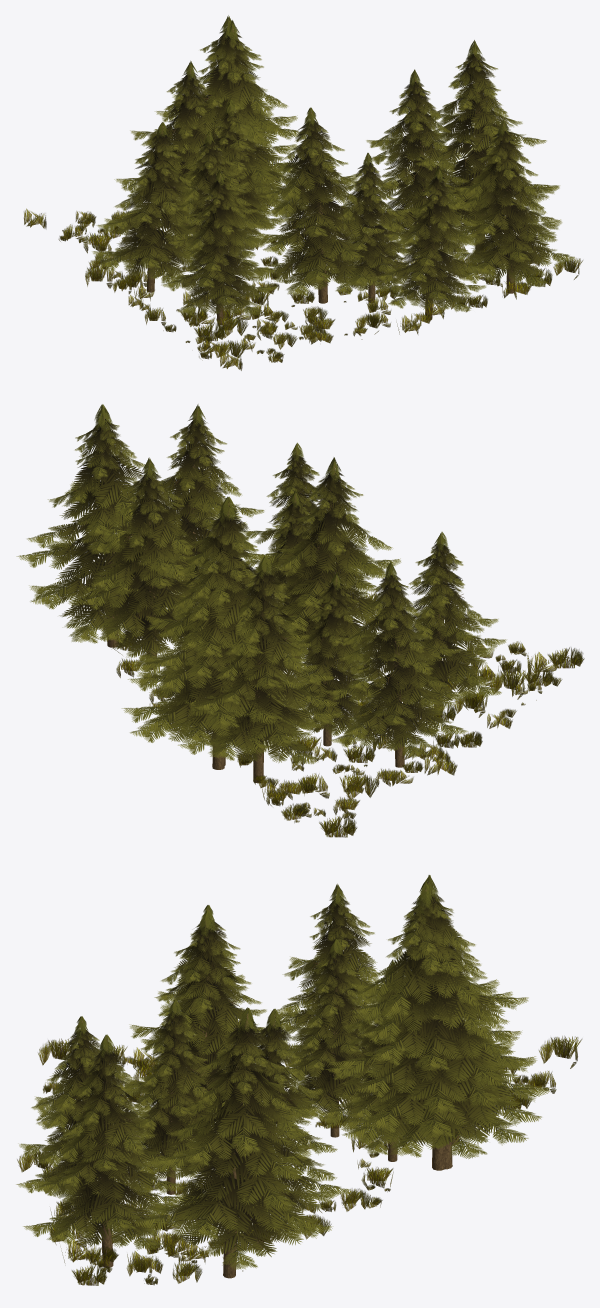
3 views of the same model, one above another, from view 1: azimuth 30°, elevation 25°; view 2: azimuth 150°, elevation 25°; view 3: azimuth 270°, elevation 25° (orthographic). The views are drawn at different scales.
Parts seen in each view (by area): view 1: Low Poly Stylized 2D Grass.2520; view 2: Low Poly Stylized 2D Grass.2520; view 3: Low Poly Stylized 2D Grass.2520.
Part boxes in pixels (left/top/right/bottom): Low Poly Stylized 2D Grass.2520: left=24, top=15, right=582, bottom=370; Low Poly Stylized 2D Grass.2520: left=16, top=404, right=584, bottom=837; Low Poly Stylized 2D Grass.2520: left=16, top=875, right=581, bottom=1285.
Size of the model in its own units: 27.25 by 14.24 by 25.3.
3 materials, 3 textured.
